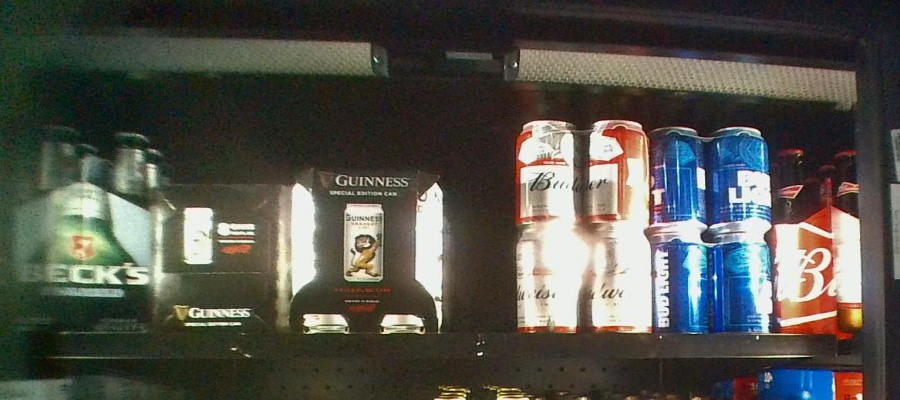bottle: (515, 115, 655, 335), (6, 122, 155, 328), (650, 124, 774, 337), (293, 166, 443, 335), (156, 182, 289, 331), (775, 147, 865, 336)
